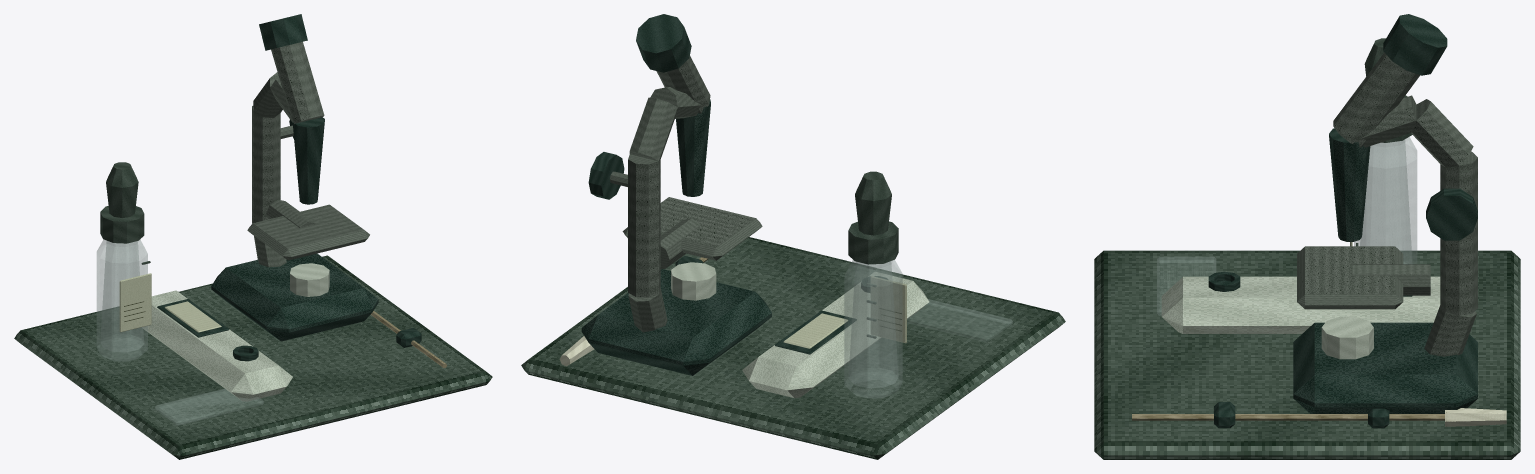
The model's file is blender_ectoplasm_sampler_3.glb.
3 renders of one model, left to right at view 1: azimuth 30°, elevation 25°; view 2: azimuth 150°, elevation 25°; view 3: azimuth 270°, elevation 25°, orthographic. The views are drawn at different scales.
Visible parts, largest first — view 1: blender_ectoplasm_sampler_3; view 2: blender_ectoplasm_sampler_3; view 3: blender_ectoplasm_sampler_3.
Boxes of the visible parts, x1=… form: blender_ectoplasm_sampler_3: x1=14, y1=14, x2=492, y2=459; blender_ectoplasm_sampler_3: x1=521, y1=14, x2=1065, y2=459; blender_ectoplasm_sampler_3: x1=1094, y1=14, x2=1520, y2=459.
Bounding box in the file's own units: 0.2 × 0.1814 × 0.18.
Materials: 11 (11 with a texture image).
